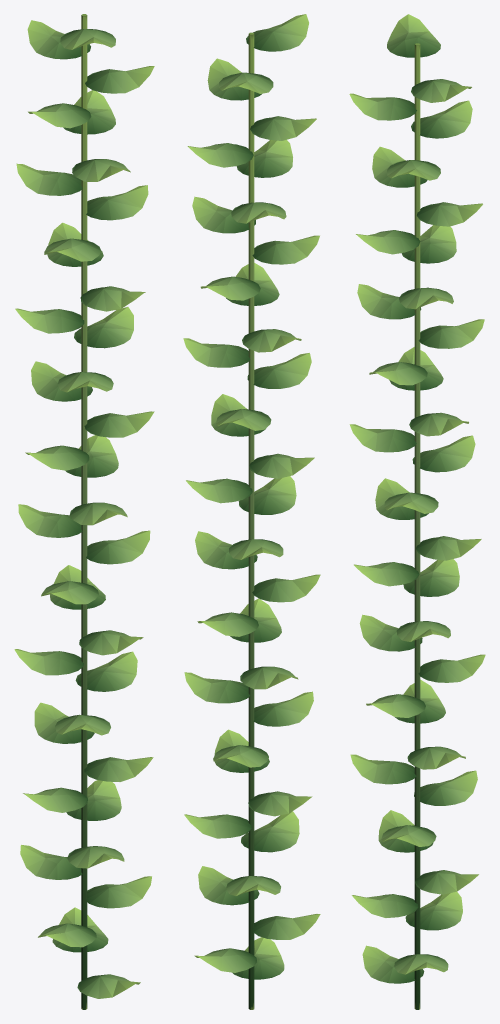
Rendered from SM_Algae_8.fbx.
3 renders of one model, left to right at view 1: azimuth 90°, elevation 25°; view 2: azimuth 210°, elevation 25°; view 3: azimuth 270°, elevation 25°, orthographic. The views are drawn at different scales.
Parts seen in each view (by area): view 1: Algae_8; view 2: Algae_8; view 3: Algae_8.
Part boxes in pixels (x1=…): Algae_8: x1=14, y1=14, x2=154, y2=1009; Algae_8: x1=183, y1=14, x2=320, y2=1009; Algae_8: x1=349, y1=14, x2=485, y2=1009.
Size of the model in its own units: 41.13 by 322 by 41.26.
